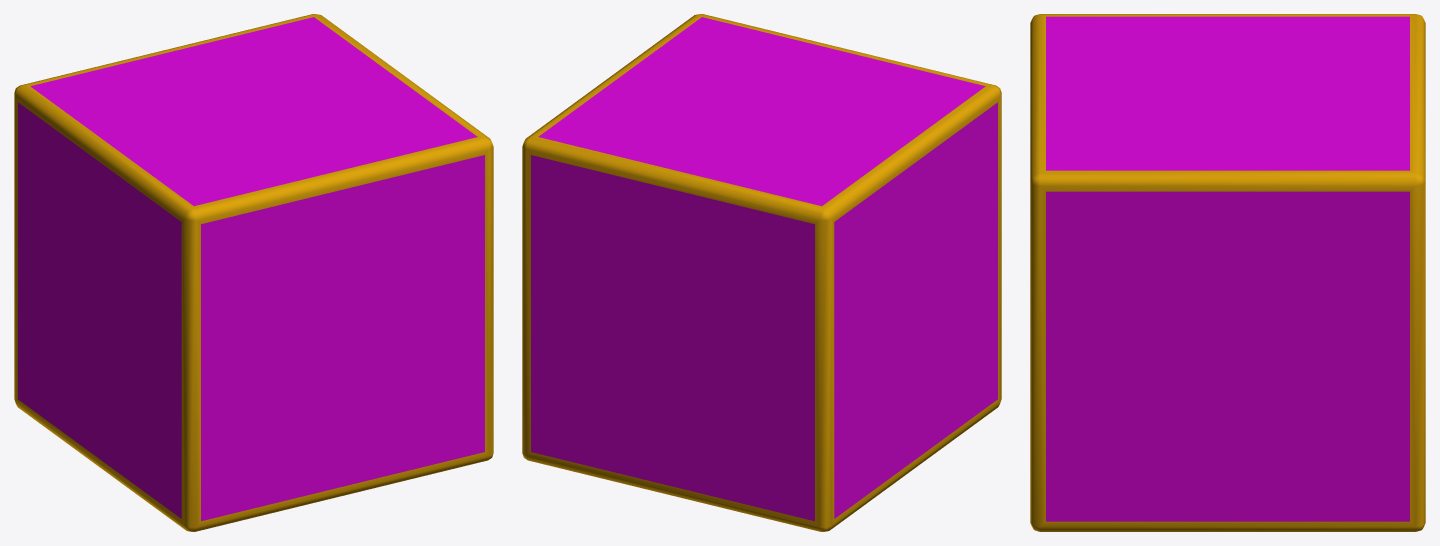
Rendered from prp_D6.fbx.
The picture shows the model from 3 angles, left to right: view 1: azimuth 30°, elevation 25°; view 2: azimuth 150°, elevation 25°; view 3: azimuth 270°, elevation 25°; orthographic projection. The views are drawn at different scales.
Parts seen in each view (by area): view 1: prp_D6; view 2: prp_D6; view 3: prp_D6.
Part boxes in pixels (left/top/right/bottom): prp_D6: left=14, top=14, right=493, bottom=531; prp_D6: left=522, top=14, right=1001, bottom=531; prp_D6: left=1030, top=14, right=1425, bottom=531.
Bounding box in the file's own units: 0.5437 × 0.5437 × 0.5437.
